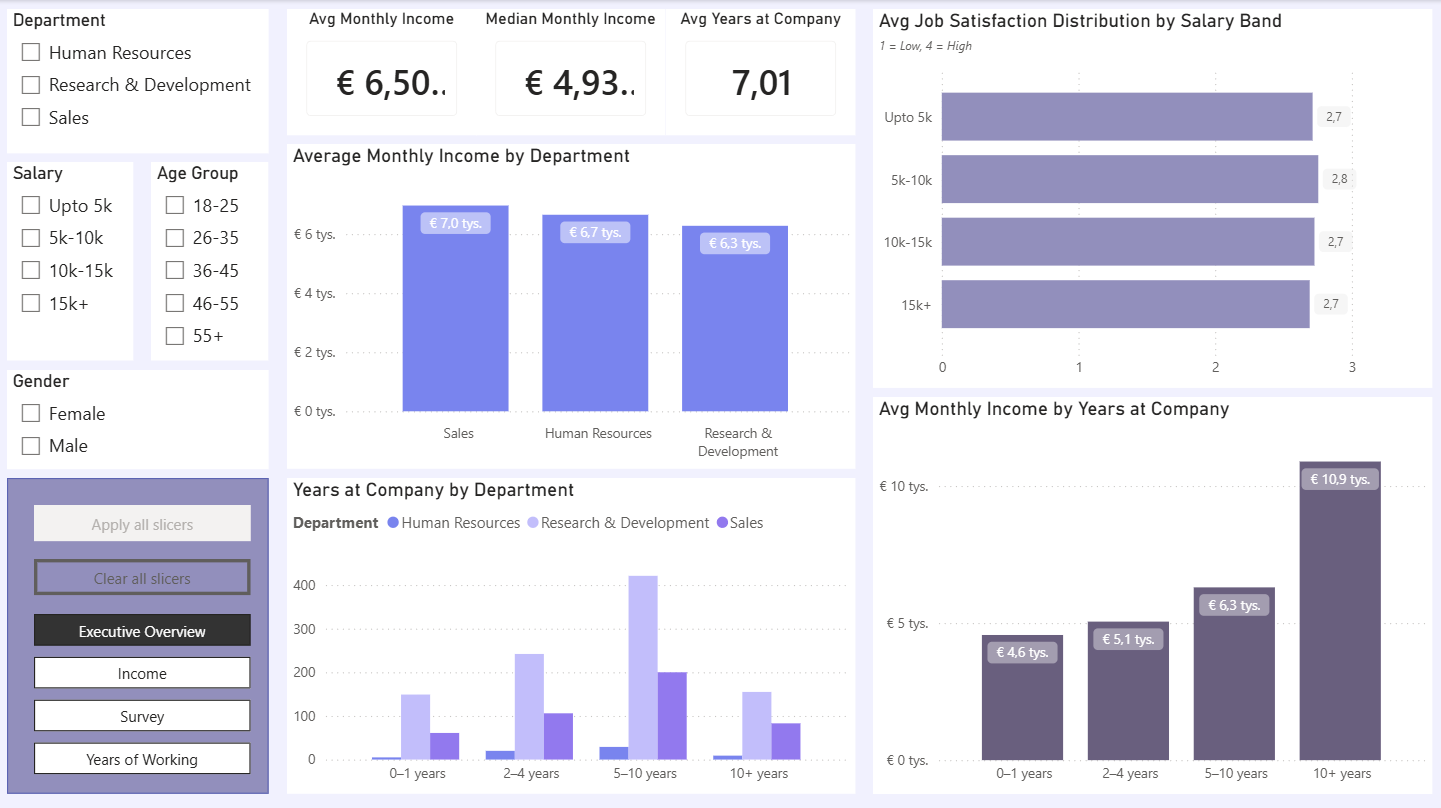

The dashboard page shown, as its layout file describes it:
{"tool":"powerbi","page":{"name":"Executive Overview","canvas":[1280,720],"ordinal":0},"visuals":[{"type":"cardVisual","title":"Avg Monthly Income","fields":{"Data":["Avg(HR_Analytics.MonthlyIncome)"]},"box":[256,8,168,112],"z":0},{"type":"slicer","title":"Salary","fields":{"Values":["HR_Analytics.Salary Slab"]},"box":[8,144,112,176],"z":1000},{"type":"slicer","title":"Gender","fields":{"Values":["HR_Analytics.Gender"]},"box":[8,328,232,88],"z":2000},{"type":"slicer","title":"Department","fields":{"Values":["HR_Analytics.Department"]},"box":[8,8,232,128],"z":3000},{"type":"slicer","title":"Age Group","fields":{"Values":["HR_Analytics.AgeGroup"]},"box":[136,144,104,176],"z":4000},{"type":"shape","box":[8,424,232,280],"z":5000},{"type":"pageNavigator","box":[32,544,192,144],"z":6000},{"type":"actionButton","box":[32,448,192,32],"z":7000},{"type":"actionButton","box":[32,496,192,32],"z":8000},{"type":"clusteredColumnChart","title":"Average Monthly Income by Department","fields":{"Category":["HR_Analytics.Department"],"Y":["Avg(HR_Analytics.MonthlyIncome)"]},"box":[256,128,504,288],"z":9000},{"type":"cardVisual","title":"Median Monthly Income","fields":{"Data":["Median(HR_Analytics.MonthlyIncome)"]},"box":[423.8,8,174.7,111.7],"z":10000},{"type":"cardVisual","title":"Avg Years at Company","fields":{"Data":["Avg(HR_Analytics.YearsAtCompany)"]},"box":[598.5,8,161.4,111.7],"z":11000},{"type":"clusteredColumnChart","title":"Years at Company by Department","fields":{"Category":["HR_Analytics.Working Years Group"],"Y":["Sum(HR_Analytics.EmployeeCount)"],"Series":["HR_Analytics.Department"]},"box":[256,424,504,280],"z":12000},{"type":"columnChart","title":"Avg Monthly Income by Years at Company","fields":{"Category":["HR_Analytics.Working Years Group"],"Y":["Avg(HR_Analytics.MonthlyIncome)"]},"box":[776,352,496,352],"z":13000},{"type":"clusteredBarChart","title":"Avg Job Satisfaction Distribution by Salary Band","fields":{"Y":["_Measures.Avg Job Satisfaction"],"Category":["HR_Analytics.Salary Slab"]},"box":[776,8,496,336],"z":14000}]}

Visuals, with their boxes in screenshot pixels (x1, y1, x2, y2), scaled from the page's 1280x720 canvas onto the 1441x808 screenshot:
"Avg Monthly Income" cardVisual: {"x1": 288, "y1": 9, "x2": 477, "y2": 135}
"Salary" slicer: {"x1": 9, "y1": 162, "x2": 135, "y2": 359}
"Gender" slicer: {"x1": 9, "y1": 368, "x2": 270, "y2": 467}
"Department" slicer: {"x1": 9, "y1": 9, "x2": 270, "y2": 153}
"Age Group" slicer: {"x1": 153, "y1": 162, "x2": 270, "y2": 359}
shape: {"x1": 9, "y1": 476, "x2": 270, "y2": 790}
pageNavigator: {"x1": 36, "y1": 610, "x2": 252, "y2": 772}
actionButton: {"x1": 36, "y1": 503, "x2": 252, "y2": 539}
actionButton: {"x1": 36, "y1": 557, "x2": 252, "y2": 593}
"Average Monthly Income by Department" clusteredColumnChart: {"x1": 288, "y1": 144, "x2": 856, "y2": 467}
"Median Monthly Income" cardVisual: {"x1": 477, "y1": 9, "x2": 674, "y2": 134}
"Avg Years at Company" cardVisual: {"x1": 674, "y1": 9, "x2": 855, "y2": 134}
"Years at Company by Department" clusteredColumnChart: {"x1": 288, "y1": 476, "x2": 856, "y2": 790}
"Avg Monthly Income by Years at Company" columnChart: {"x1": 874, "y1": 395, "x2": 1432, "y2": 790}
"Avg Job Satisfaction Distribution by Salary Band" clusteredBarChart: {"x1": 874, "y1": 9, "x2": 1432, "y2": 386}
